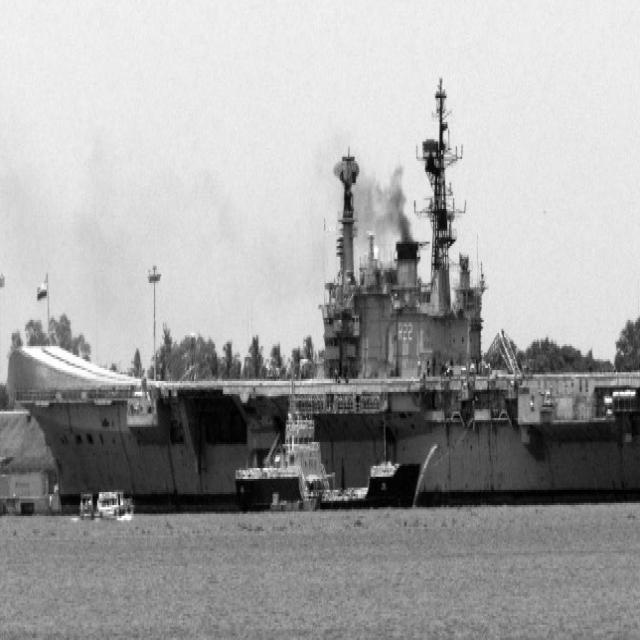Portanaves: (1, 62, 640, 523)
